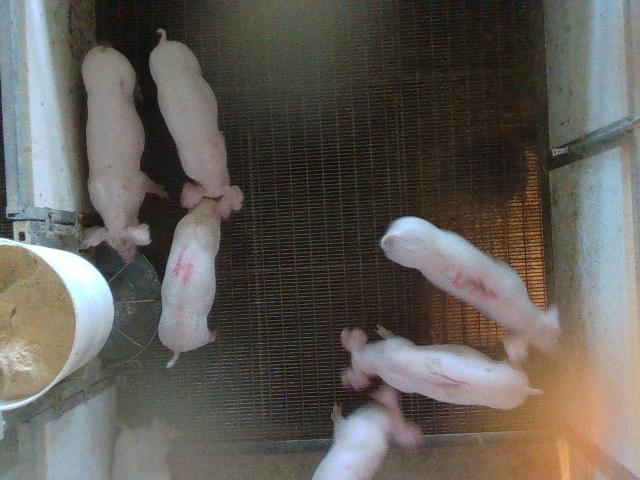pig-1: (341, 329, 541, 408)
pig-3: (380, 216, 561, 368)
pig-4: (158, 184, 242, 367)
